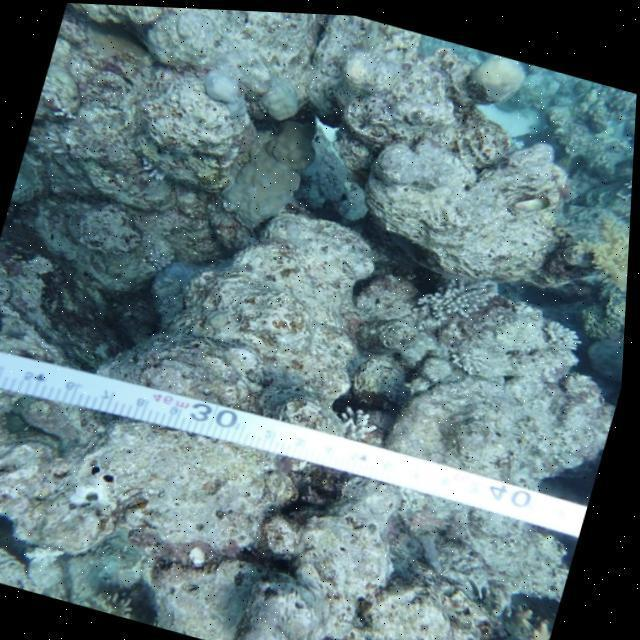Bleached Coral: (408, 250, 513, 340), (322, 382, 401, 452), (526, 298, 592, 362), (434, 334, 500, 380)
